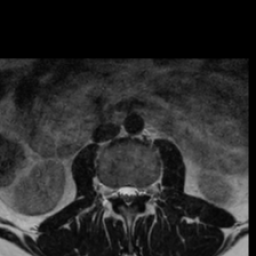CCS_normal: (124, 177, 130, 213)
LFS_normal: (137, 181, 145, 201)
LLS_normal: (130, 177, 137, 203)
RFS_normal: (110, 179, 118, 205)
RLS_normal: (117, 178, 124, 202)
